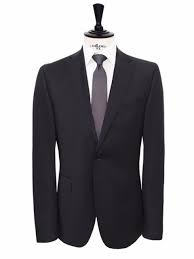F_M_suit jacket: (22, 40, 170, 256)
F_tie: (89, 49, 114, 144)
